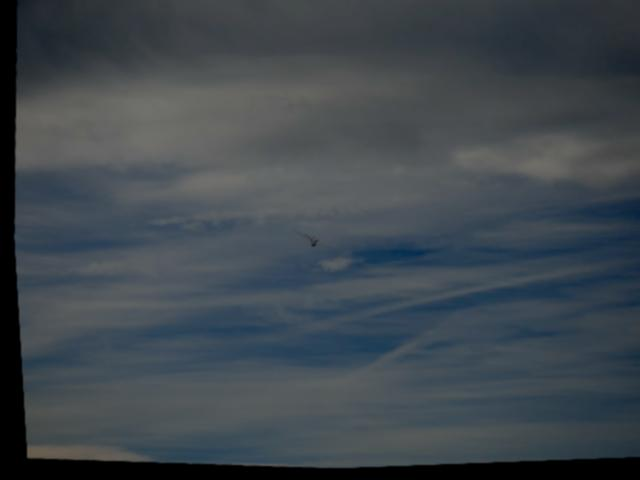plane: (290, 231, 332, 255)
